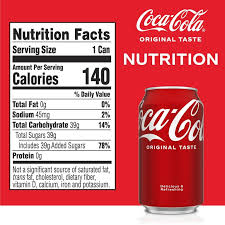can: (138, 85, 205, 214)
